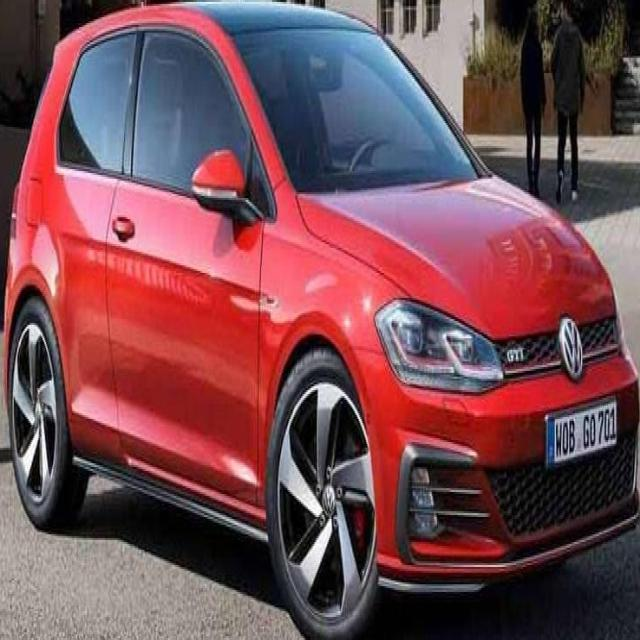red: (0, 28, 640, 608)
